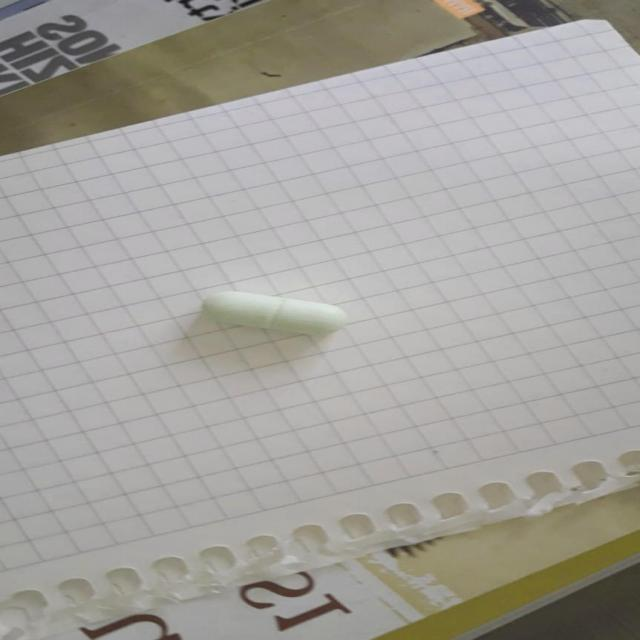pill: (198, 290, 350, 336)
